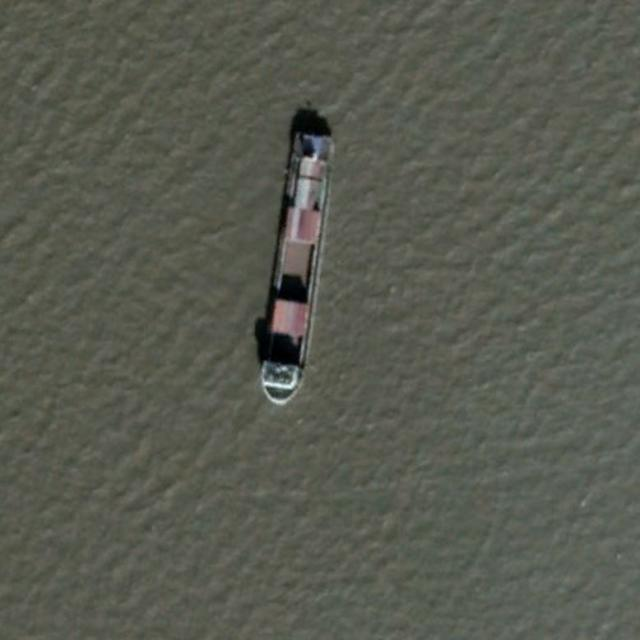ship: (258, 127, 338, 405)
